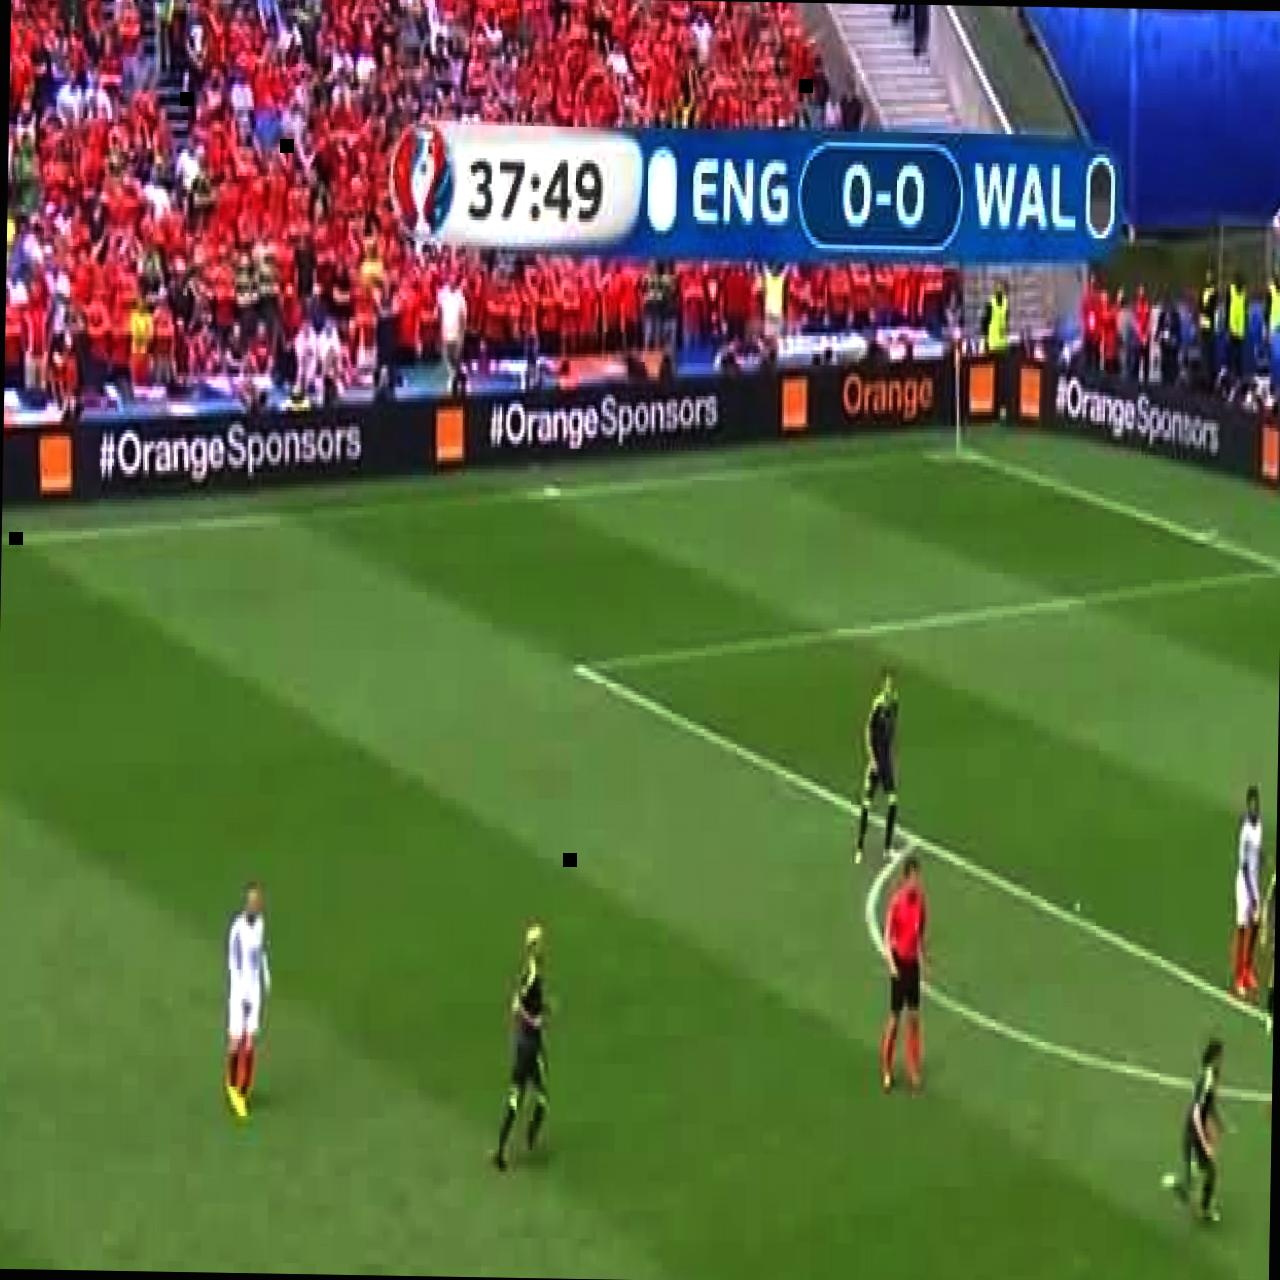football: (491, 929, 550, 1182), (882, 848, 938, 1092), (218, 880, 272, 1122), (1168, 1045, 1232, 1234), (1228, 821, 1276, 1020), (1224, 783, 1268, 998), (865, 667, 909, 870)
